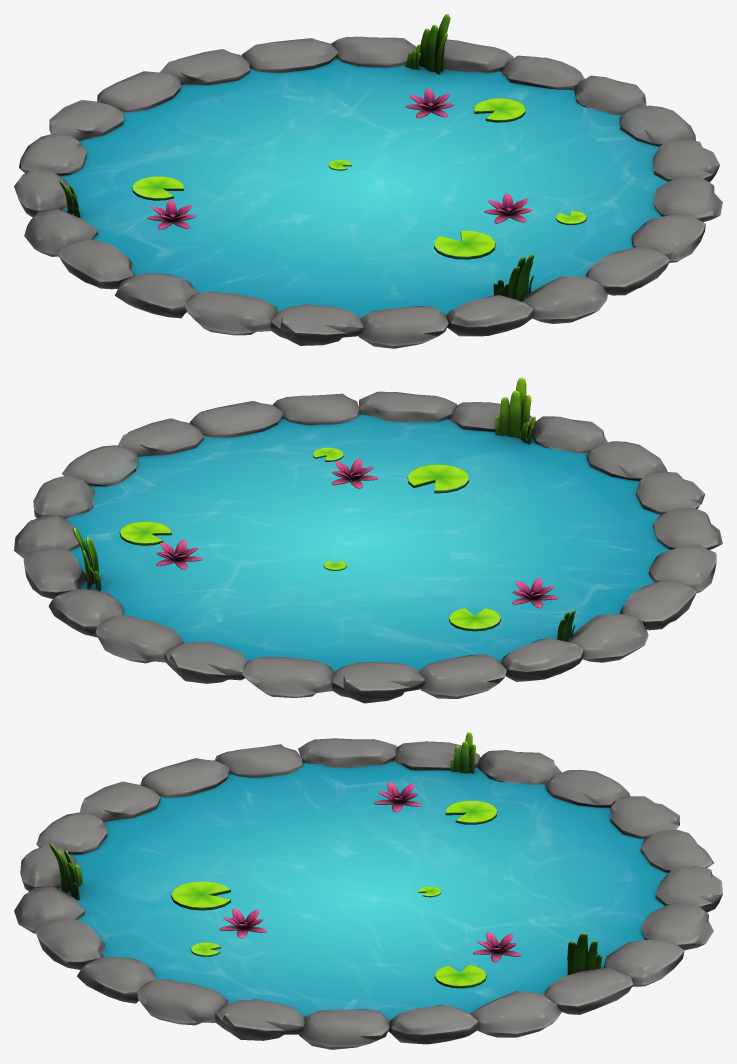
The model's file is cartoon_pond.glb.
3 renders of one model, top to bottom at view 1: azimuth 30°, elevation 25°; view 2: azimuth 150°, elevation 25°; view 3: azimuth 270°, elevation 25°, orthographic.
Visible parts, largest first — view 1: Pond; view 2: Pond; view 3: Pond.
Part boxes in pixels (x1,y1,x2,y2): Pond: [14, 14, 722, 348]; Pond: [14, 377, 722, 703]; Pond: [14, 732, 722, 1049].
Bounding box in the file's own units: 43.85 × 4.54 × 44.07.
1 material, 1 textured.
